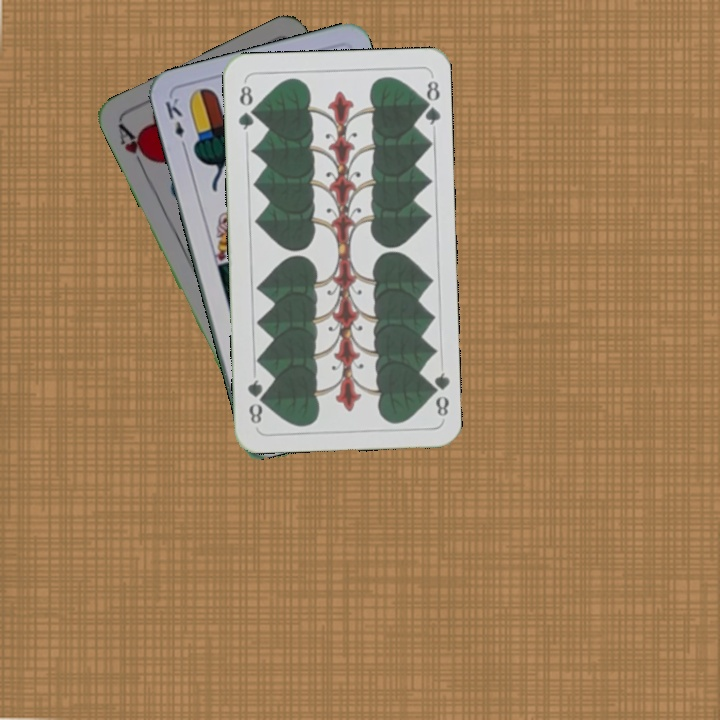EK: (161, 93, 189, 153)
G8: (425, 368, 452, 419), (234, 78, 258, 132)
HA: (113, 120, 154, 176)
